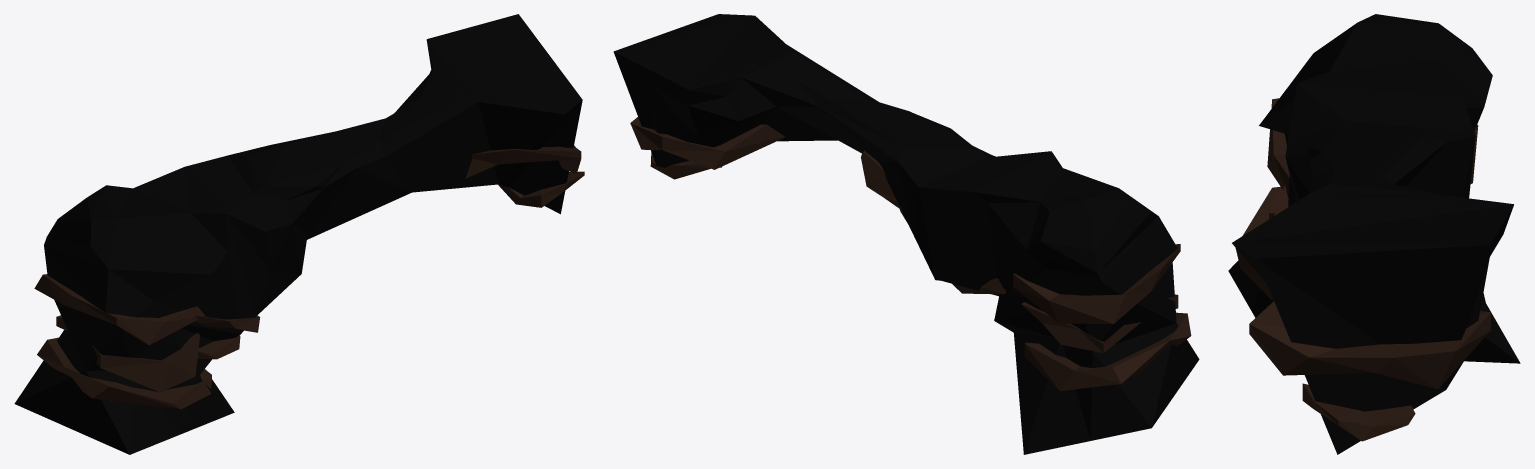
Rendered from NatureBridgeSmall.fbx.
3 views of the same model, side by side, from view 1: azimuth 30°, elevation 25°; view 2: azimuth 150°, elevation 25°; view 3: azimuth 270°, elevation 25° (orthographic). The views are drawn at different scales.
Parts seen in each view (by area): view 1: NatureBridgeSmall; view 2: NatureBridgeSmall; view 3: NatureBridgeSmall.
Part boxes in pixels (left/top/right/bottom): NatureBridgeSmall: left=14, top=14, right=584, bottom=454; NatureBridgeSmall: left=613, top=14, right=1199, bottom=454; NatureBridgeSmall: left=1228, top=14, right=1520, bottom=454.
Bounding box in the file's own units: 31.6 × 16.44 × 10.89.
